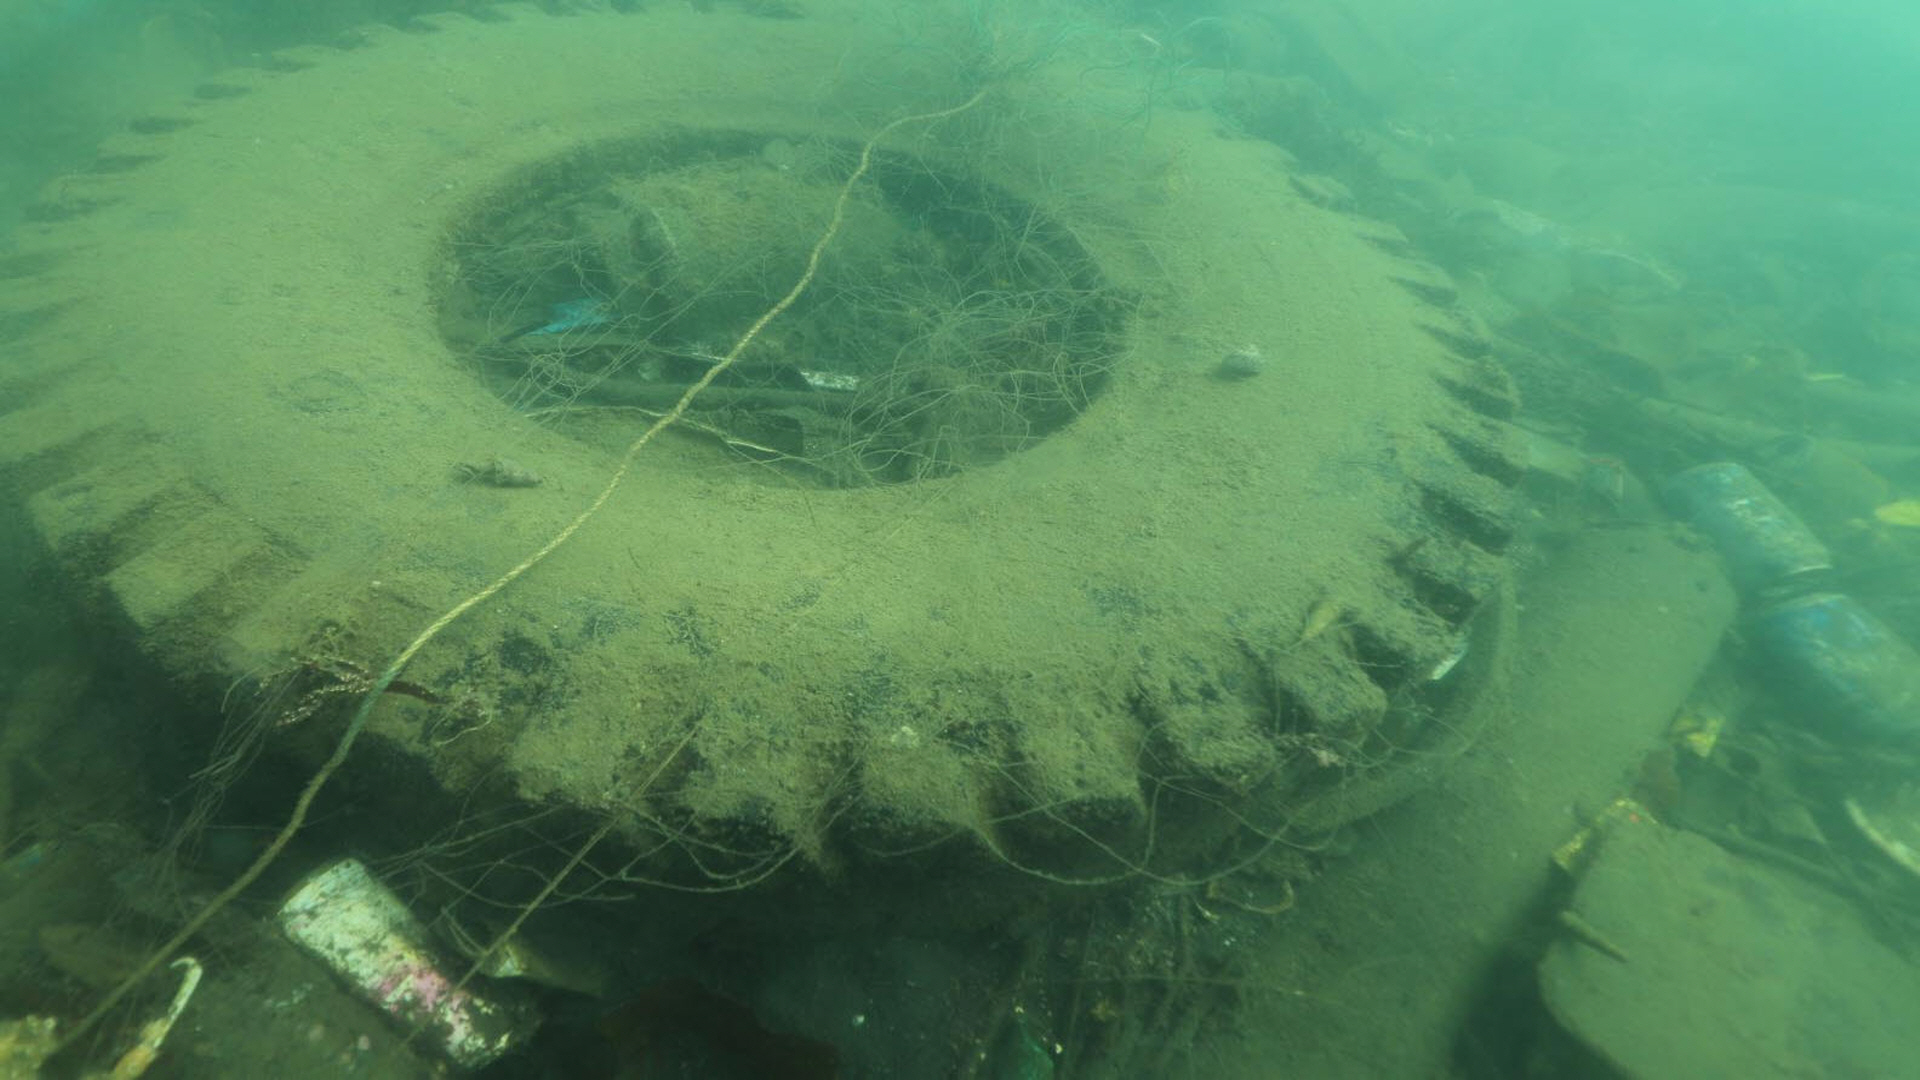eel fish trap: (1146, 526, 1733, 1080)
tire: (0, 0, 1520, 927)
